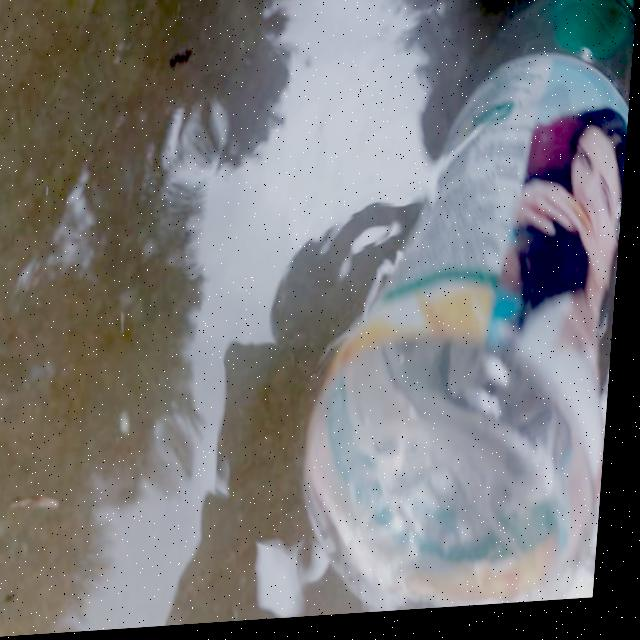waterbottle: (310, 0, 640, 622)
